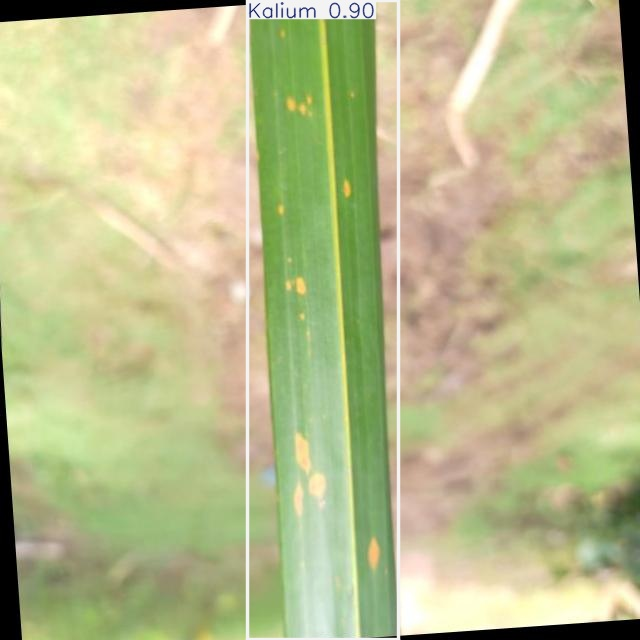Kalium: (248, 1, 398, 640)
